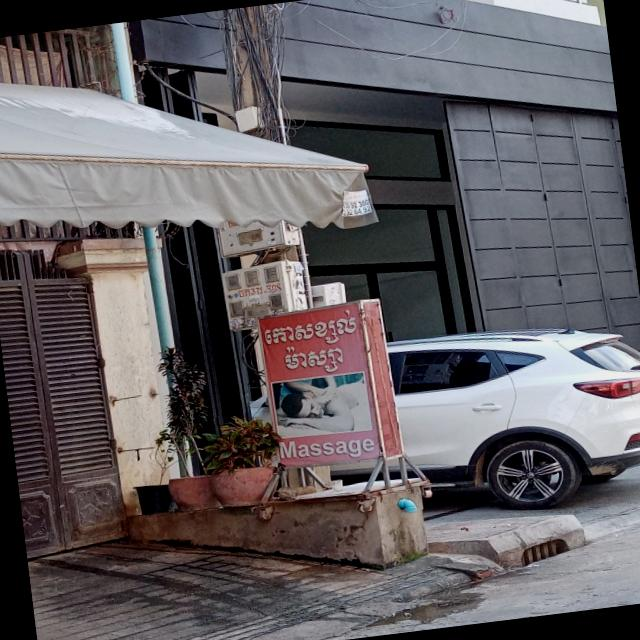Yolov11kh: (233, 334, 380, 376), (252, 303, 363, 350)
